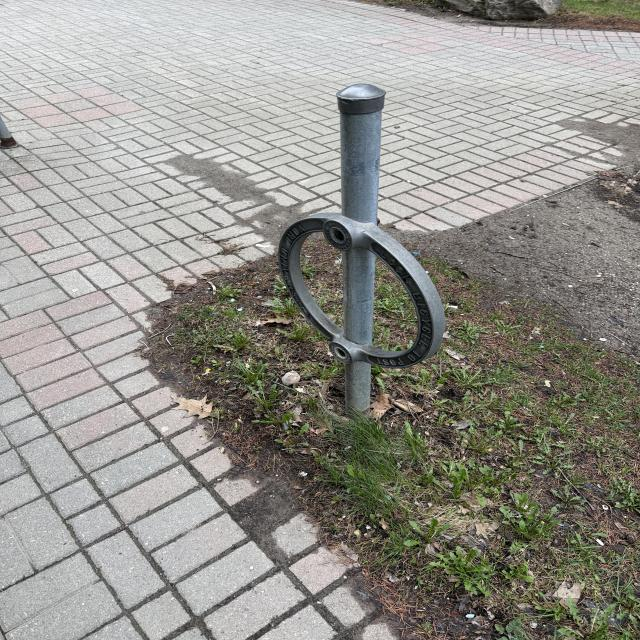Bicycle Rack: (278, 84, 447, 418)
